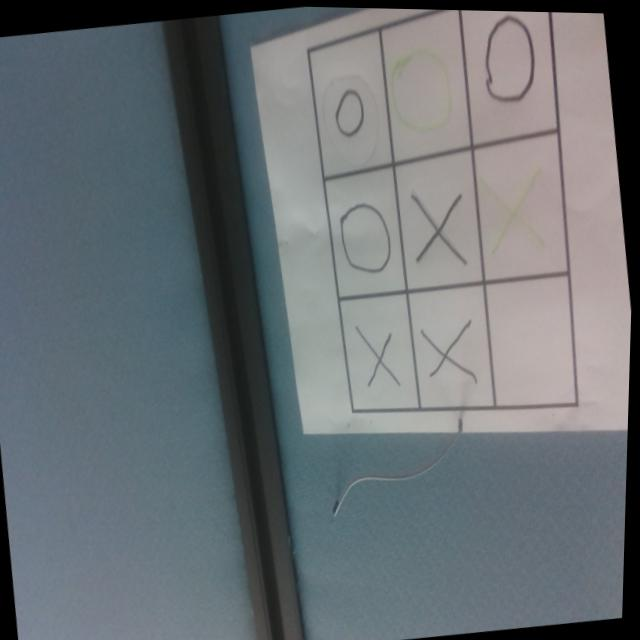null: (484, 269, 585, 409)
o: (385, 41, 458, 138), (477, 8, 542, 104), (335, 196, 398, 278), (331, 85, 369, 139)
table: (288, 5, 602, 442)
x: (483, 160, 550, 254), (409, 180, 470, 268), (420, 313, 480, 386), (357, 319, 403, 391)
